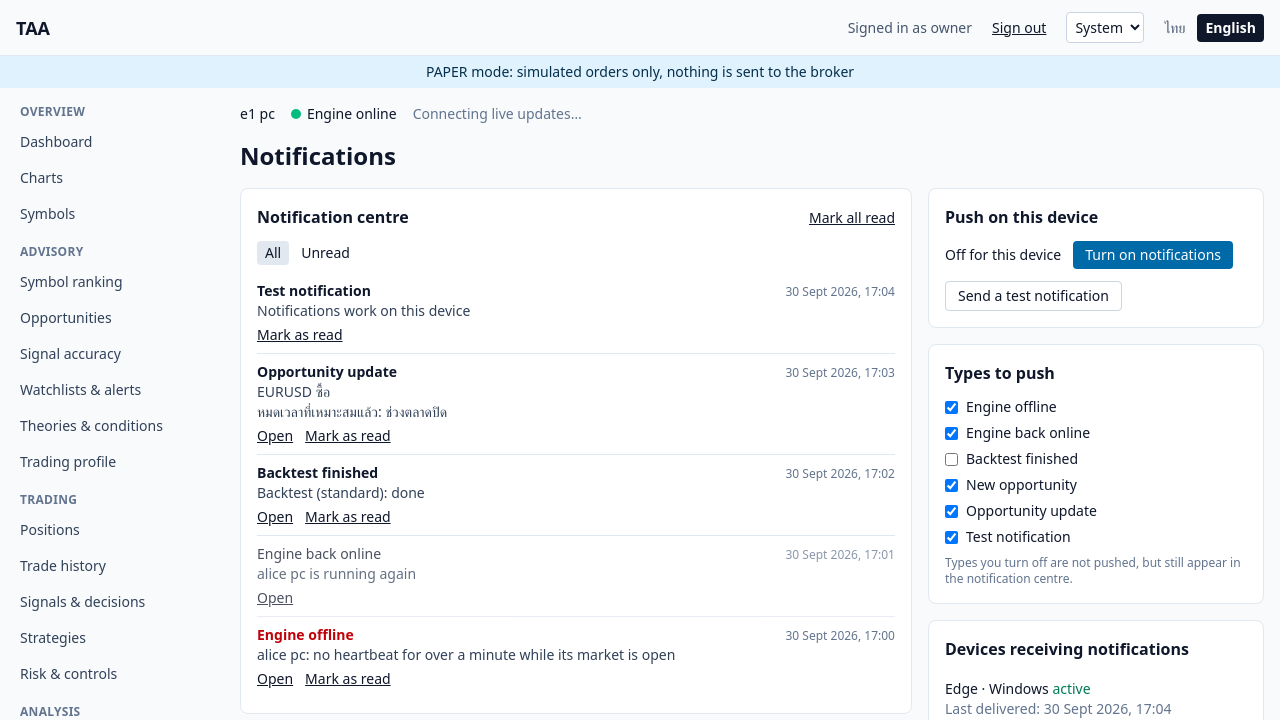
notifications page › marks one or all notifications read and filters the unread ones
Expected: the text "Notifications work on this device" is shown, [257,301,470,320]
Click the button "Mark as read" below "Notifications work on this device": click(300, 335) [257,325,342,345]
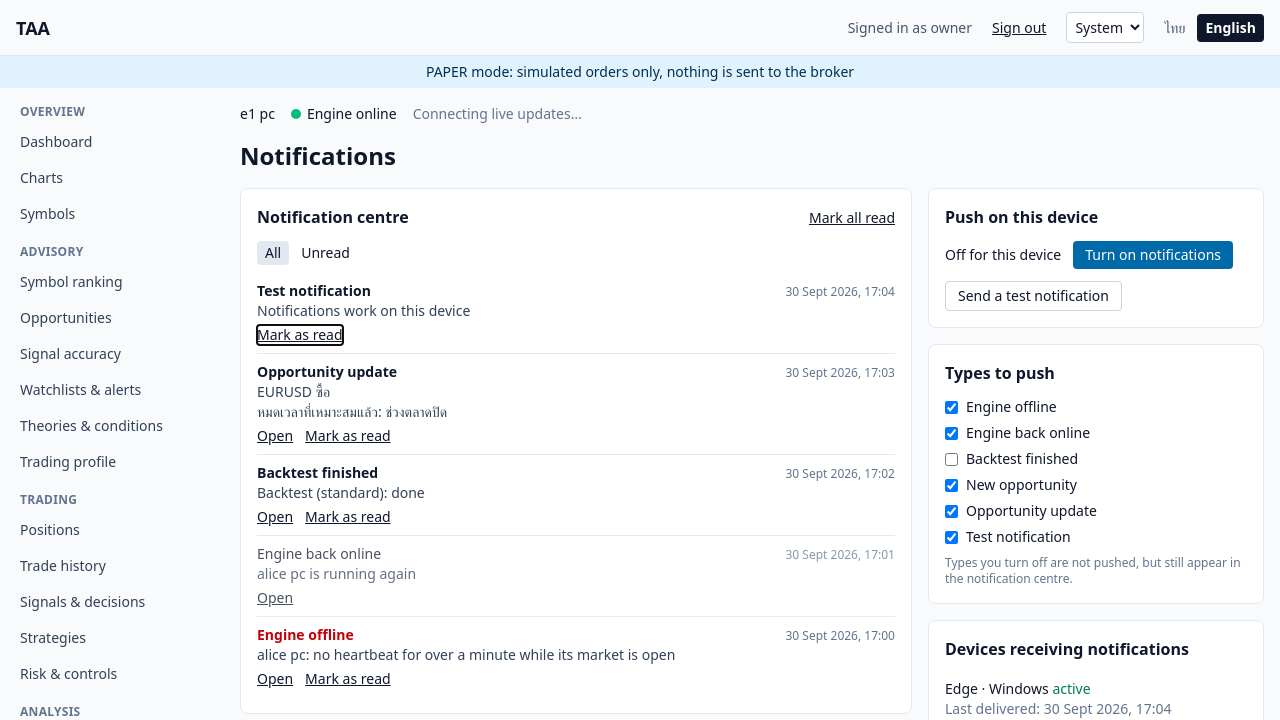
Click the button "Mark all read": click(852, 218) [809,208,895,228]
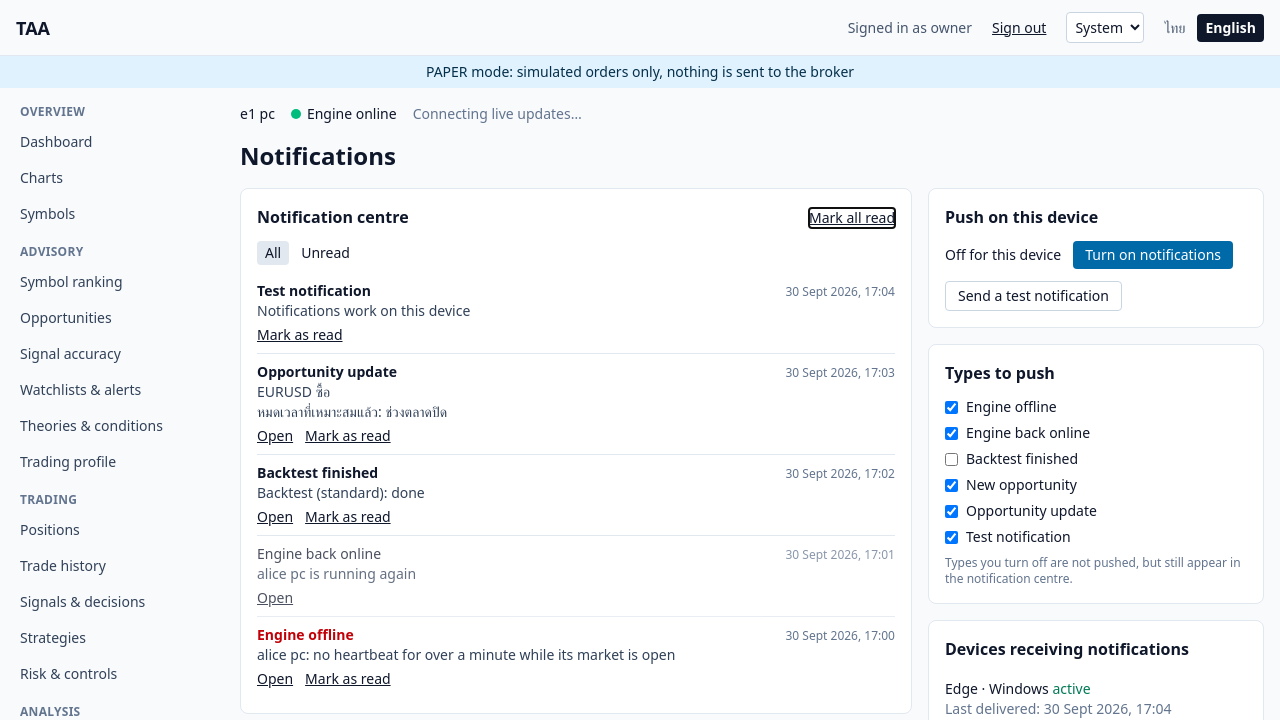
Click the button "Unread": click(326, 253) [293,241,358,265]
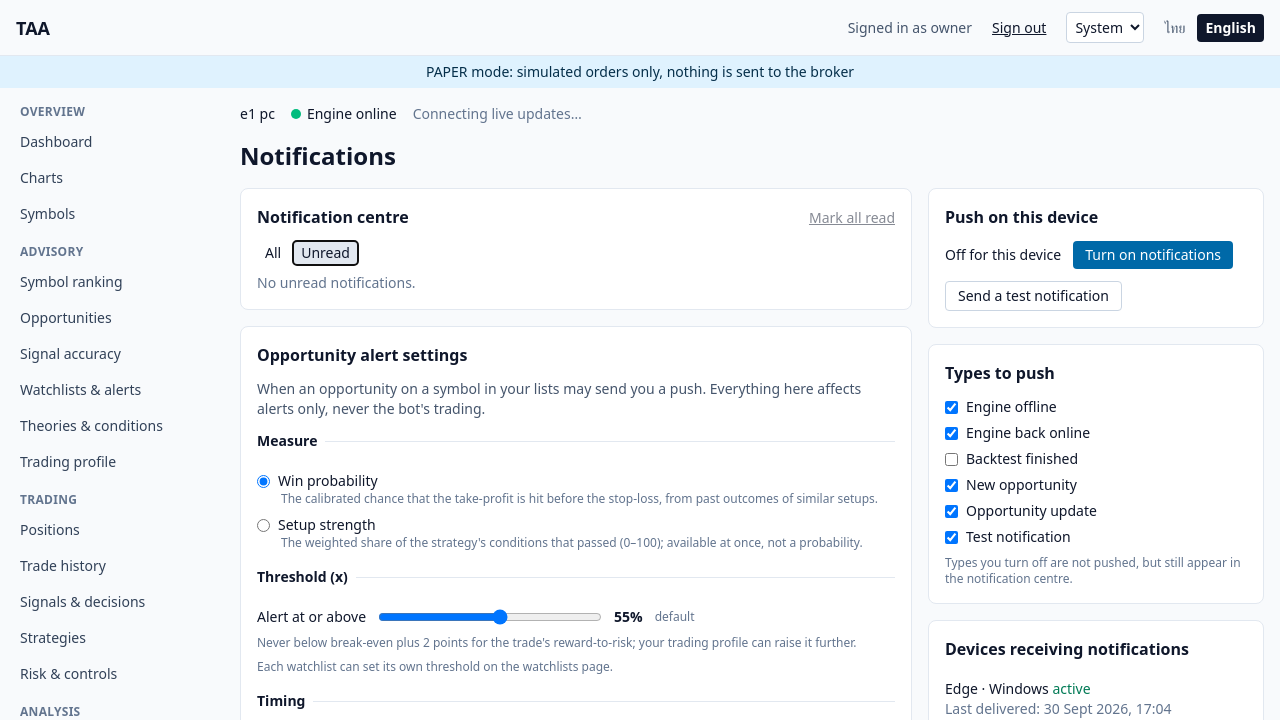
Expected: the text "No unread notifications." is shown, [257,273,416,292]
